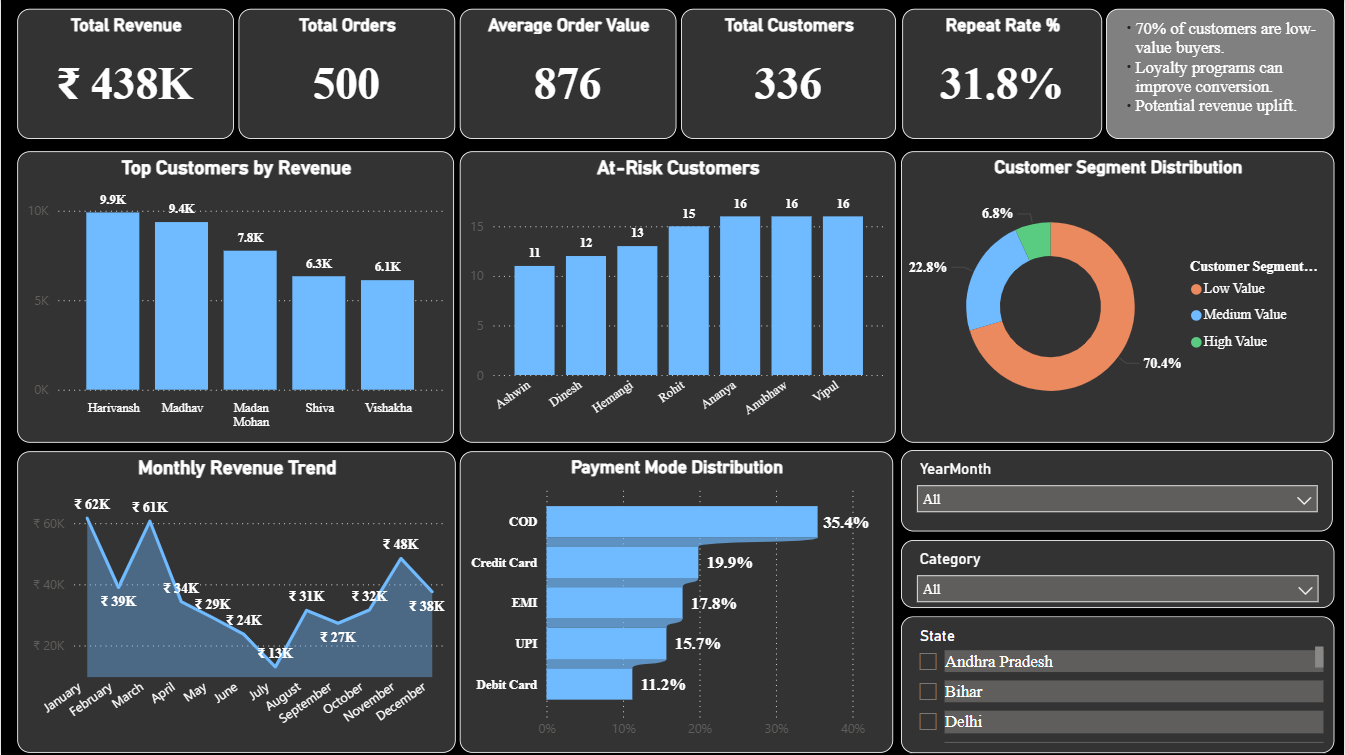

The dashboard page shown, as its layout file describes it:
{"tool":"powerbi","page":{"name":"Sales and Customer","canvas":[1280,720],"ordinal":1},"visuals":[{"type":"barChart","title":"Payment Mode Distribution","fields":{"Category":["Details.PaymentMode"],"Y":["NewMeasure2.Payment %"]},"box":[437.5,430,412.5,287.5],"z":0},{"type":"columnChart","title":"Top Customers by Revenue","fields":{"Y":["Sum(Details.Amount)"],"Category":["Orders.CustomerName"]},"box":[15,143.8,416.2,277.5],"z":1000},{"type":"card","title":"Total Revenue","fields":{"Values":["NewMeasure.Total Revenue"]},"box":[15,8.8,206.2,123.8],"z":2000},{"type":"card","title":"Total Customers","fields":{"Values":["NewMeasure2.Total Customers"]},"box":[648,8.8,205,123.8],"z":3000},{"type":"card","title":"Repeat Rate %","fields":{"Values":["NewMeasure2.Repeat Rate %"]},"box":[857.8,8.8,190,123.8],"z":4000},{"type":"card","title":"Total Orders","fields":{"Values":["Details.Total Orders"]},"box":[226.2,8.8,206.2,123.8],"z":5000},{"type":"card","title":"Average Order Value","fields":{"Values":["Details.AOV"]},"box":[437,8.8,206.2,123.8],"z":6000},{"type":"areaChart","title":"Monthly Revenue Trend","fields":{"Category":["DateTable.Month Name"],"Y":["NewMeasure1.Total Revenue"]},"box":[15,430,417.5,287.5],"z":7000},{"type":"donutChart","title":"Customer Segment Distribution","fields":{"Category":["Orders.Customer Segment Column"],"Y":["CountNonNull(Orders.CustomerName)"]},"box":[857.5,143.8,412.5,277.5],"z":8000},{"type":"columnChart","title":"At-Risk Customers","fields":{"Y":["Sum(Details.Amount)"],"Category":["Orders.CustomerName"]},"box":[436.9,143.8,415,277.5],"z":9000},{"type":"textbox","box":[1052.5,8.8,217.5,123.8],"z":10000},{"type":"slicer","fields":{"Values":["Details.Category"]},"box":[857.5,514.6,412.5,65],"z":11000},{"type":"slicer","fields":{"Values":["Orders.State"]},"box":[857.5,587.5,412.5,130],"z":12000},{"type":"slicer","fields":{"Values":["DateTable.YearMonth"]},"box":[857.5,429.2,411.2,77.5],"z":13000}]}

Visuals, with their boxes in screenshot pixels (x1, y1, x2, y2), scaled from the page's 1280x720 canvas onto the 1345x755 screenshot:
"Payment Mode Distribution" barChart: (460,451,893,752)
"Top Customers by Revenue" columnChart: (16,151,453,442)
"Total Revenue" card: (16,9,232,139)
"Total Customers" card: (681,9,896,139)
"Repeat Rate %" card: (901,9,1101,139)
"Total Orders" card: (238,9,454,139)
"Average Order Value" card: (459,9,676,139)
"Monthly Revenue Trend" areaChart: (16,451,454,752)
"Customer Segment Distribution" donutChart: (901,151,1334,442)
"At-Risk Customers" columnChart: (459,151,895,442)
textbox: (1106,9,1334,139)
slicer - Details.Category: (901,540,1334,608)
slicer - Orders.State: (901,616,1334,752)
slicer - DateTable.YearMonth: (901,450,1333,531)
